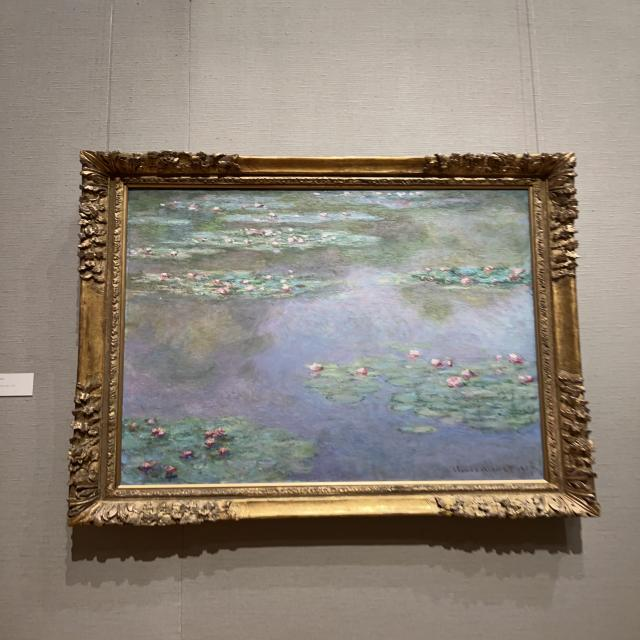lilies: (121, 189, 544, 485)
